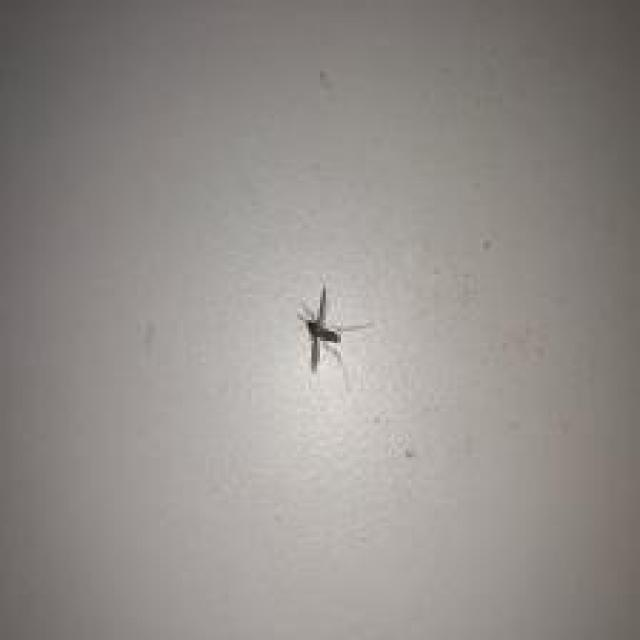Culex: (296, 283, 373, 374)
